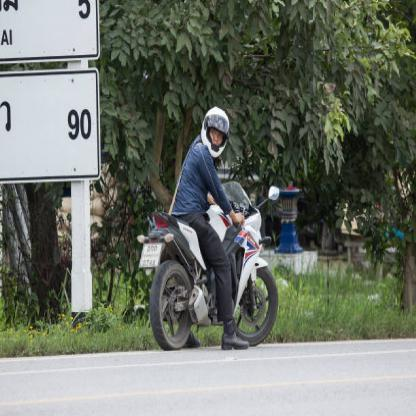Motorcycle: (140, 170, 288, 347)
